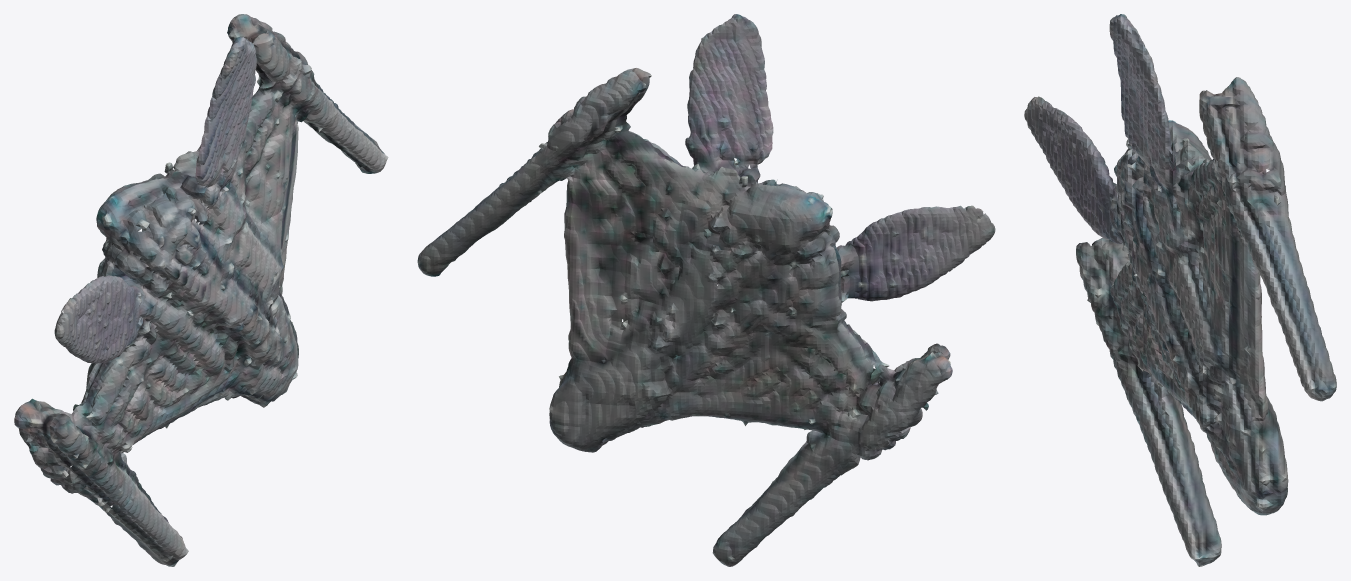
The model's file is 853adb52-c52a-41ea-83fb-5aa4e36f712d.glb.
3 renders of one model, left to right at view 1: azimuth 30°, elevation 25°; view 2: azimuth 150°, elevation 25°; view 3: azimuth 270°, elevation 25°, orthographic. The views are drawn at different scales.
Parts seen in each view (by area): view 1: world; view 2: world; view 3: world.
Boxes of the visible parts, bbox=[...] form: world: bbox=[14, 14, 388, 566]; world: bbox=[417, 14, 995, 566]; world: bbox=[1024, 14, 1336, 566].
Size of the model in its own units: 1.02 by 1.14 by 0.5681.
